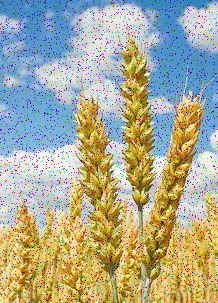wheat: (146, 93, 196, 284), (72, 84, 118, 279), (119, 31, 157, 208)
